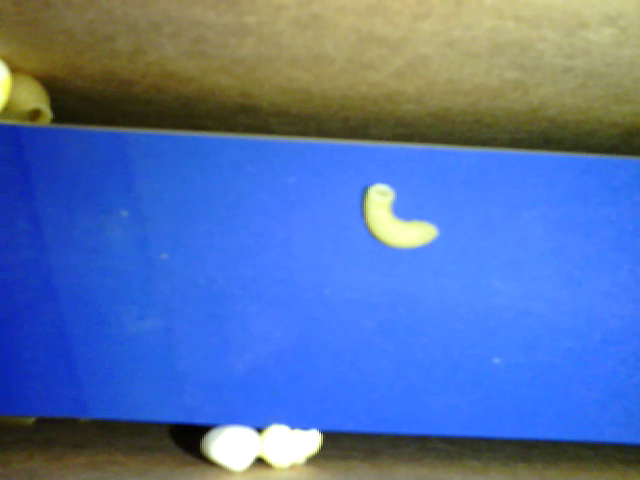elbow: (361, 183, 439, 249)
shell: (3, 67, 55, 131)
